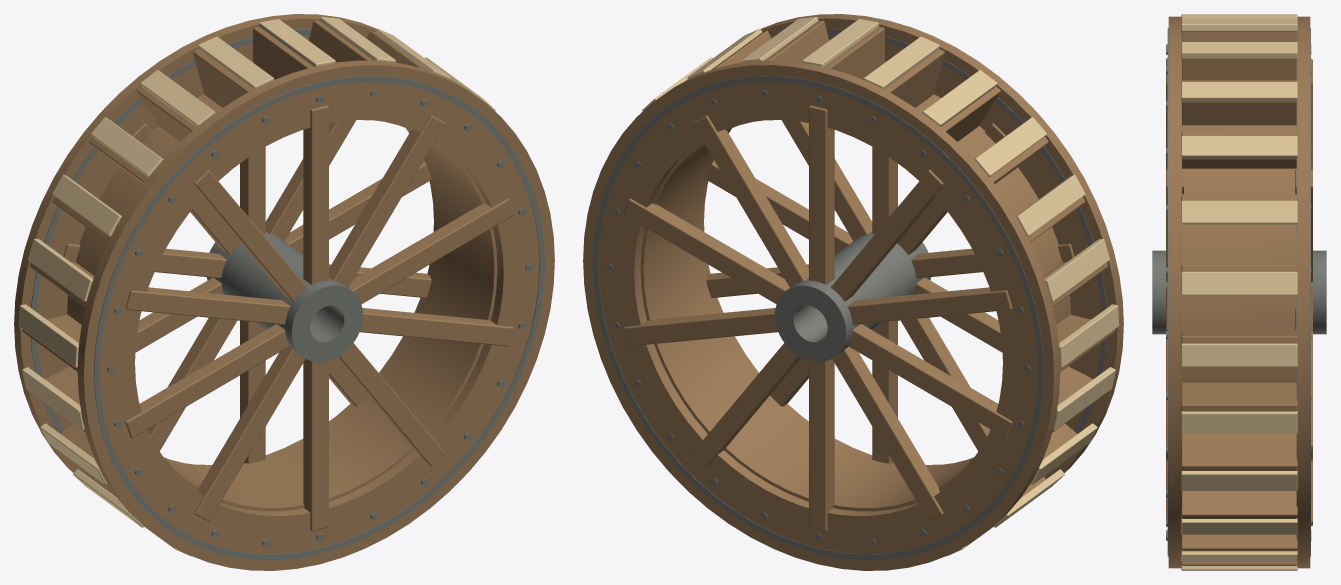
File: overshot-bucket-waterwh.glb
The picture shows the model from 3 angles, left to right: view 1: azimuth 30°, elevation 25°; view 2: azimuth 150°, elevation 25°; view 3: azimuth 270°, elevation 25°; orthographic projection.
Parts seen in each view (by area): view 1: overshot-bucket-waterwheel; view 2: overshot-bucket-waterwheel; view 3: overshot-bucket-waterwheel.
Boxes of the visible parts, box(x1,y1,x2,y2) form: overshot-bucket-waterwheel: box(14, 14, 554, 570); overshot-bucket-waterwheel: box(583, 14, 1123, 570); overshot-bucket-waterwheel: box(1152, 14, 1326, 570).
Bounding box in the file's own units: 3.07 × 3.07 × 0.9599.
